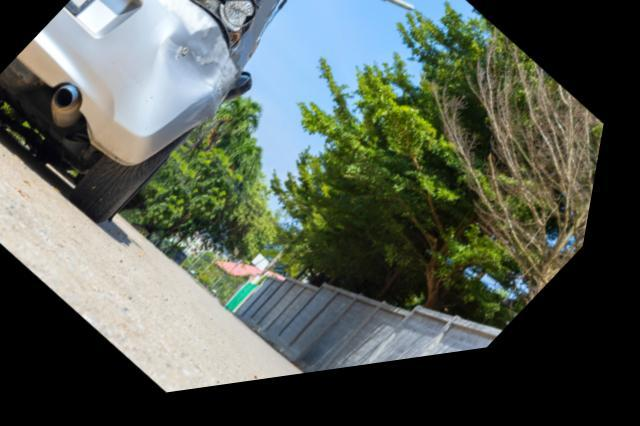dent: (150, 34, 231, 137)
lamp broken: (192, 1, 258, 54)
